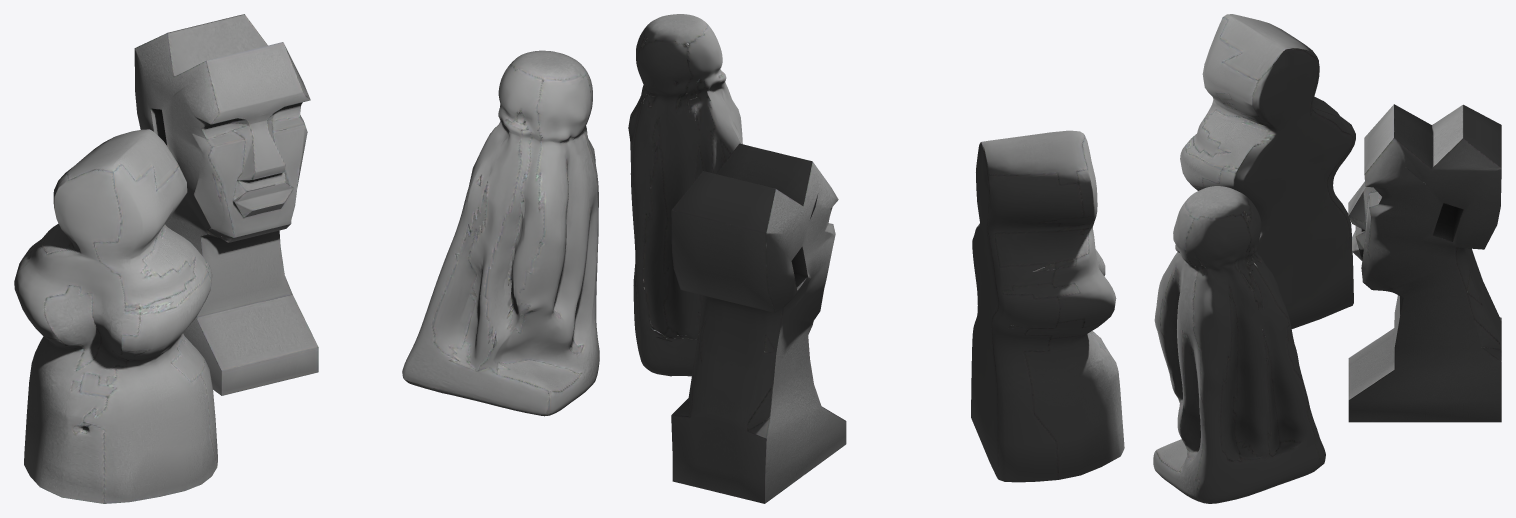
Rendered from EsculturaUmaTextura.glb.
The picture shows the model from 3 angles, left to right: view 1: azimuth 30°, elevation 25°; view 2: azimuth 150°, elevation 25°; view 3: azimuth 270°, elevation 25°; orthographic projection. The views are drawn at different scales.
Parts seen in each view (by area): view 1: Ab_Geometria_Tres_Projetos_UPBGE_0440.001; view 2: Ab_Geometria_Tres_Projetos_UPBGE_0440.001; view 3: Ab_Geometria_Tres_Projetos_UPBGE_0440.001.
Part boxes in pixels (x1,y1,x2,y2): Ab_Geometria_Tres_Projetos_UPBGE_0440.001: (14,14,599,503); Ab_Geometria_Tres_Projetos_UPBGE_0440.001: (628,14,1124,503); Ab_Geometria_Tres_Projetos_UPBGE_0440.001: (1153,14,1501,503).
Size of the model in its own units: 2.08 by 1.24 by 1.32.
Materials: 1 (1 with a texture image).
